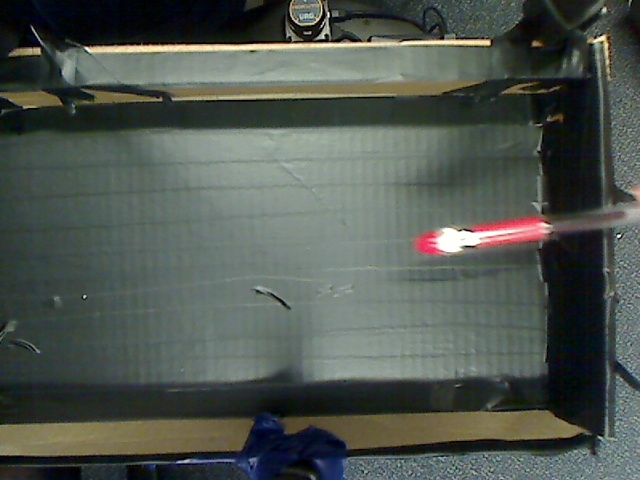pen: (404, 209, 640, 255)
